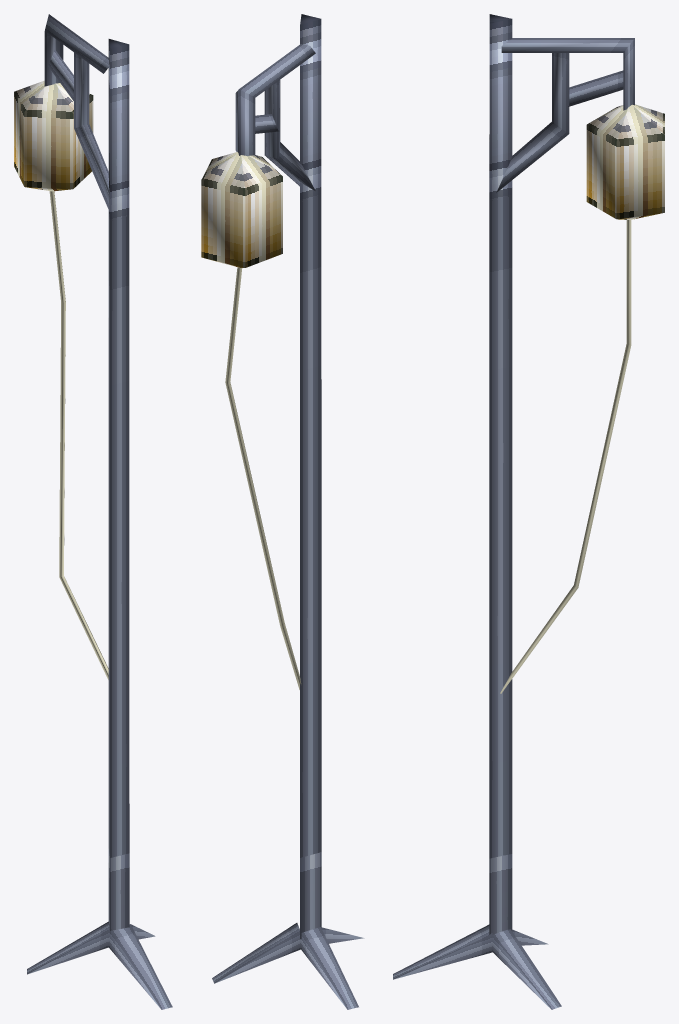
The model's file is a_SCgen32.glb.
The picture shows the model from 3 angles, left to right: view 1: azimuth 30°, elevation 25°; view 2: azimuth 150°, elevation 25°; view 3: azimuth 270°, elevation 25°; orthographic projection. The views are drawn at different scales.
Visible parts, largest first — view 1: a_SCgen32; view 2: a_SCgen32; view 3: a_SCgen32.
Part boxes in pixels (x1=…): a_SCgen32: x1=14, y1=14, x2=172, y2=1009; a_SCgen32: x1=201, y1=14, x2=364, y2=1009; a_SCgen32: x1=393, y1=14, x2=664, y2=1009.
Bounding box in the file's own units: 0.253 × 1.65 × 0.4241.
Materials: 1 (1 with a texture image).
